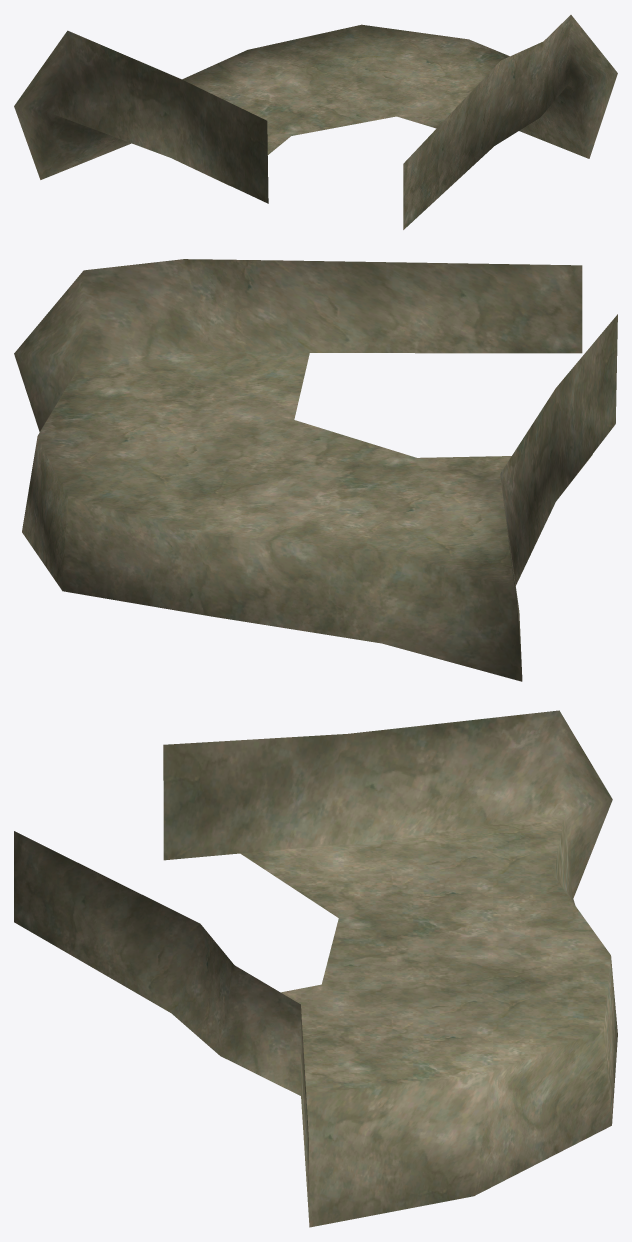
File: EKH_GROTTO_PS_GR_LINE24.fbx
3 renders of one model, top to bottom at view 1: azimuth 30°, elevation 25°; view 2: azimuth 150°, elevation 25°; view 3: azimuth 270°, elevation 25°, orthographic. The views are drawn at different scales.
Visible parts, largest first — view 1: EKH_GROTTO_PS_GR_LINE24; view 2: EKH_GROTTO_PS_GR_LINE24; view 3: EKH_GROTTO_PS_GR_LINE24.
Part boxes in pixels (x1,y1,x2,y2): EKH_GROTTO_PS_GR_LINE24: (14, 15, 617, 229); EKH_GROTTO_PS_GR_LINE24: (14, 259, 617, 681); EKH_GROTTO_PS_GR_LINE24: (14, 710, 617, 1227).
Bounding box in the file's own units: 45755 × 14976 × 35398.
Materials: 1 (1 with a texture image).
